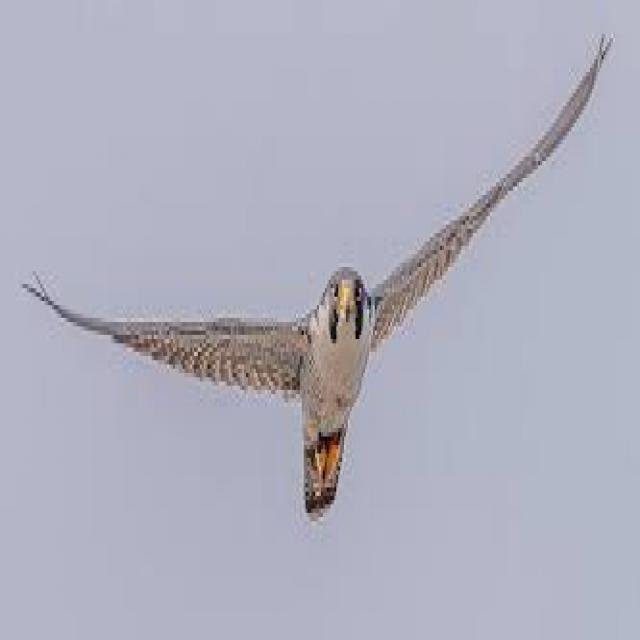birds: (23, 38, 609, 521)
